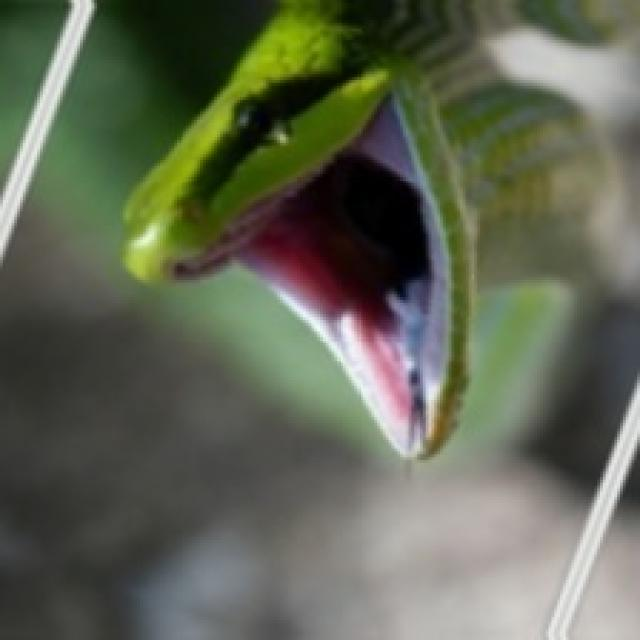red-tailed green ratsnake: (123, 0, 637, 454)
